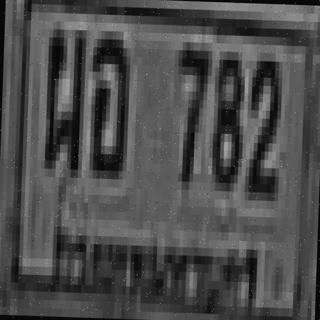A28: (38, 24, 88, 178)
A43: (85, 30, 132, 178)
N02: (244, 52, 284, 202)
N07: (172, 42, 207, 182)
N08: (207, 51, 247, 194)
